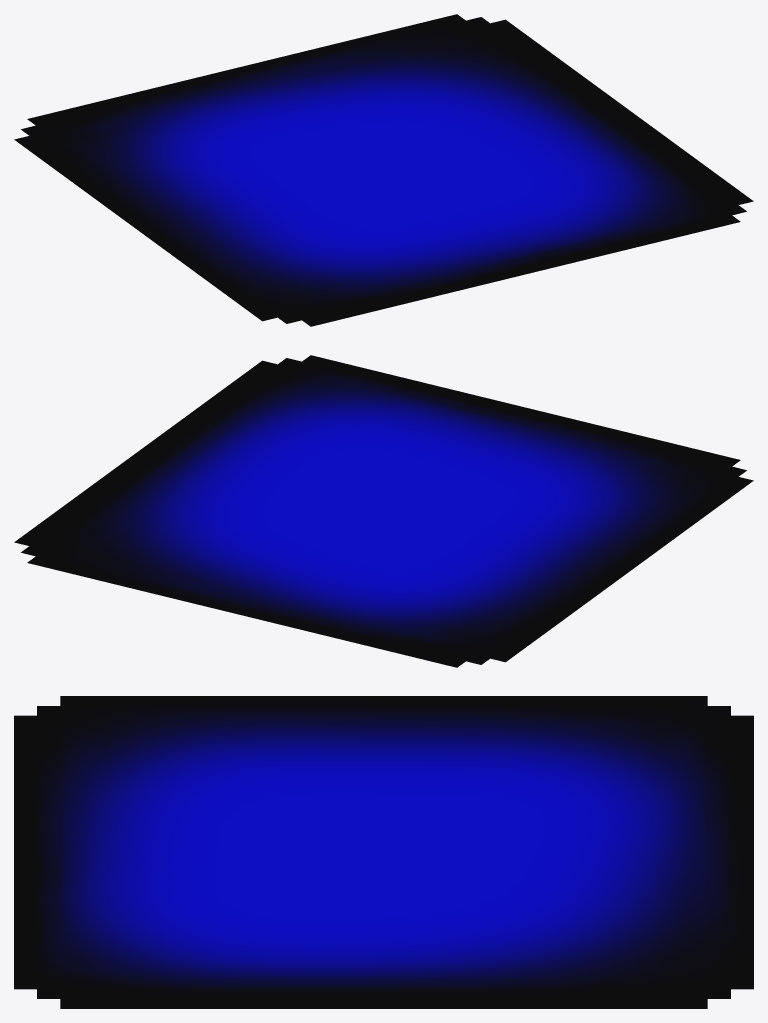
Rendered from SM_URPWater_PlaneDsp.fbx.
3 views of the same model, one above another, from view 1: azimuth 30°, elevation 25°; view 2: azimuth 150°, elevation 25°; view 3: azimuth 270°, elevation 25° (orthographic). The views are drawn at different scales.
Visible parts, largest first — view 1: SM_URPWater_PlaneDsp; view 2: SM_URPWater_PlaneDsp; view 3: SM_URPWater_PlaneDsp.
Part boxes in pixels (x1,y1,x2,y2): SM_URPWater_PlaneDsp: (14,14,753,326); SM_URPWater_PlaneDsp: (14,355,753,667); SM_URPWater_PlaneDsp: (14,696,753,1008).
Size of the model in its own units: 1800 by 7.87e-05 by 1800.
